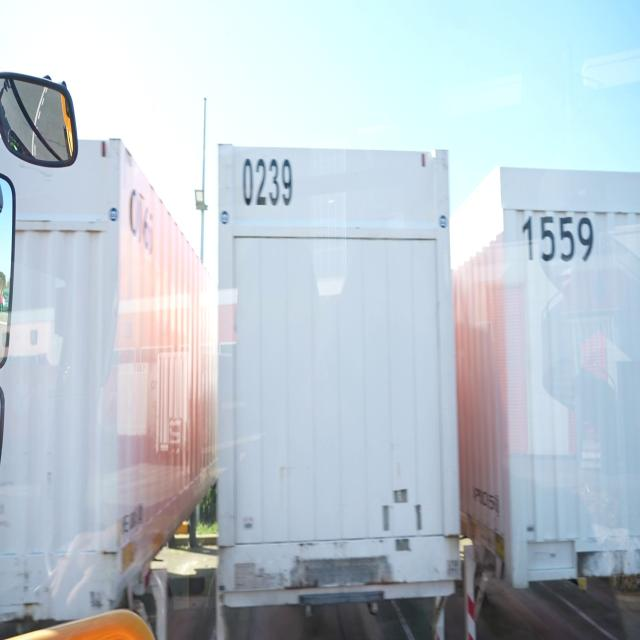Code: (521, 204, 599, 270), (239, 149, 296, 215)
